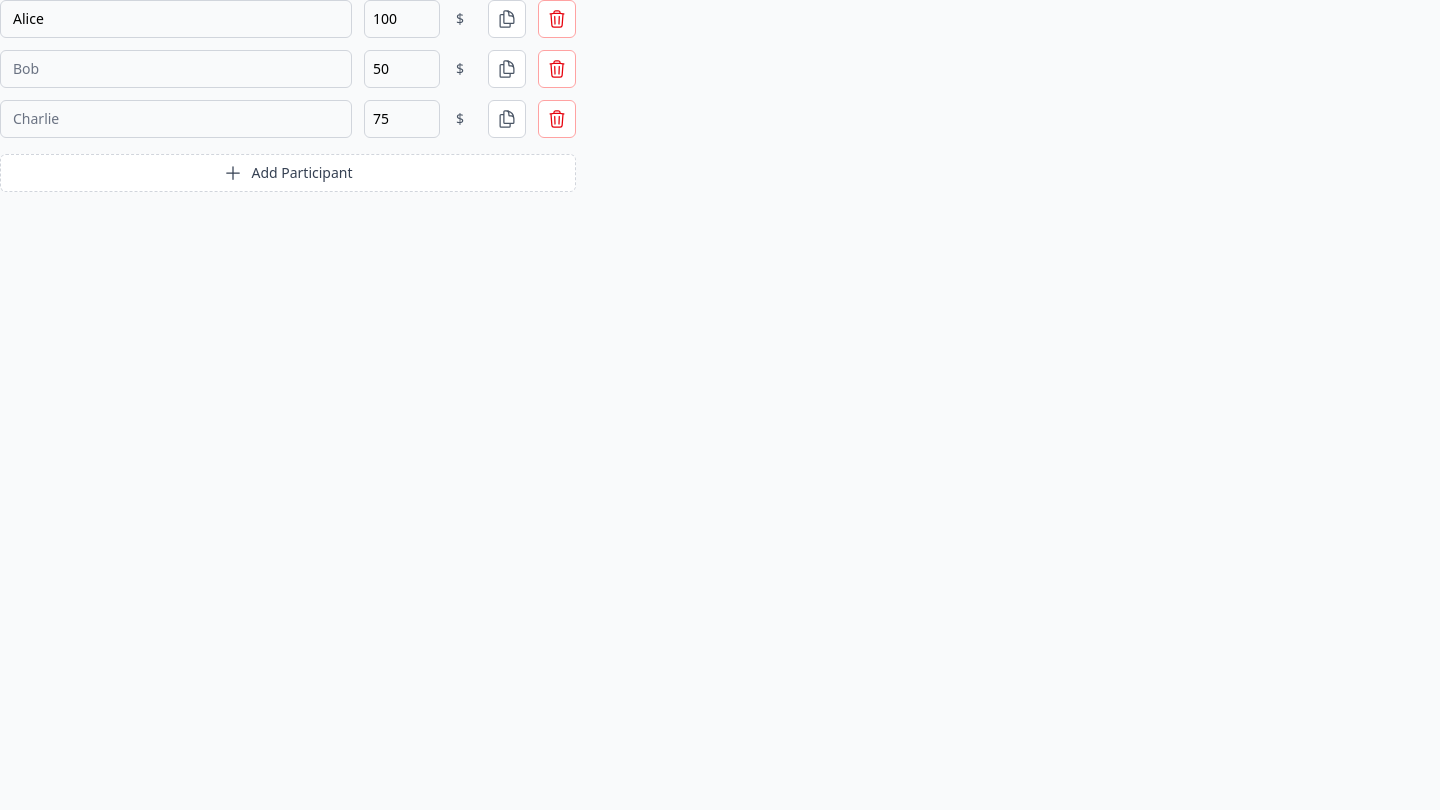
ParticipantsList › shows confirmation dialog when deleting touched participant
The width and height of the screenshot is (1440, 810).
Click the button named "remove" at (557, 19), box [538, 0, 576, 38]
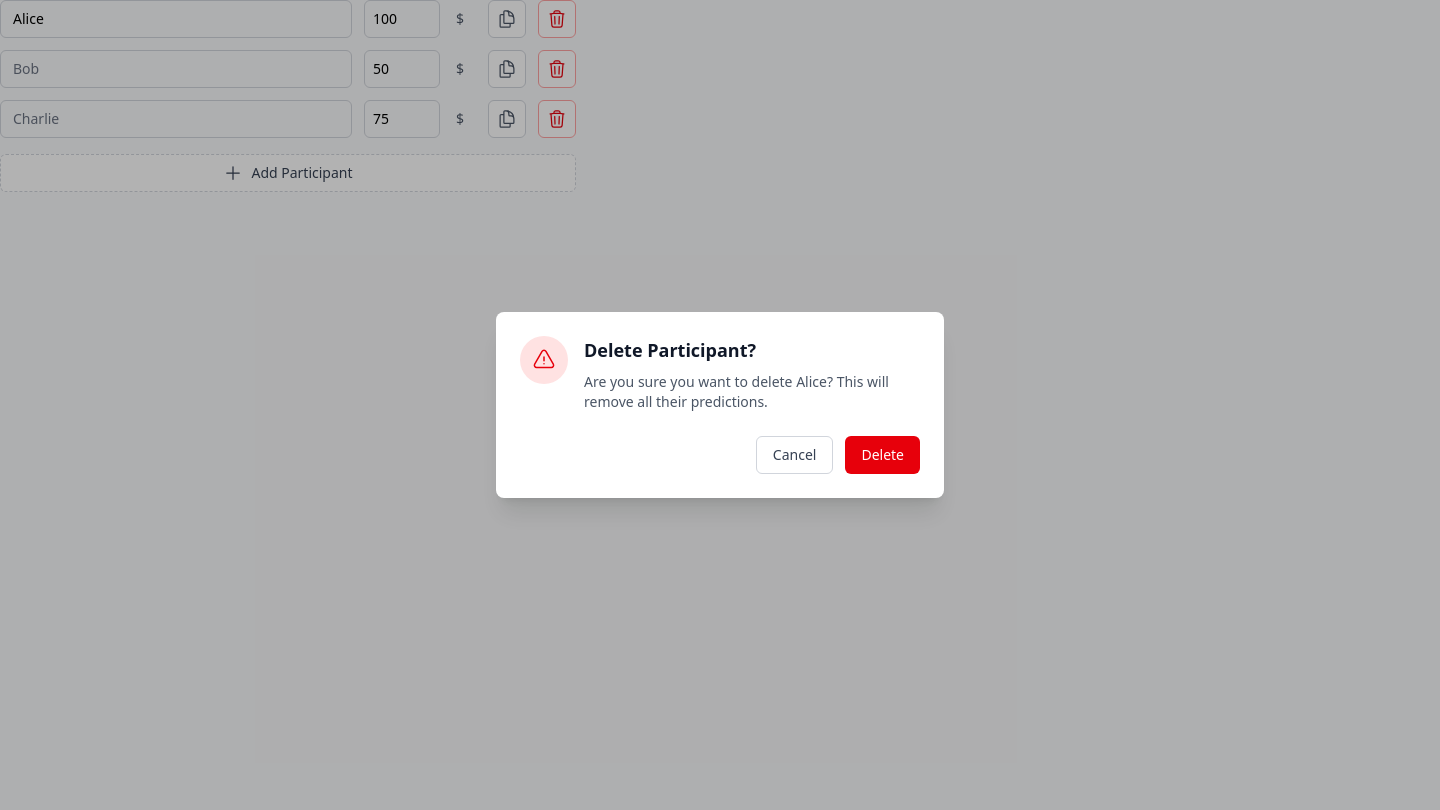
Check: the heading "Delete Participant?" is shown, box [584, 338, 756, 362]
Check: the text "Are you sure you want to delete Alice" is shown, box [584, 372, 889, 411]
